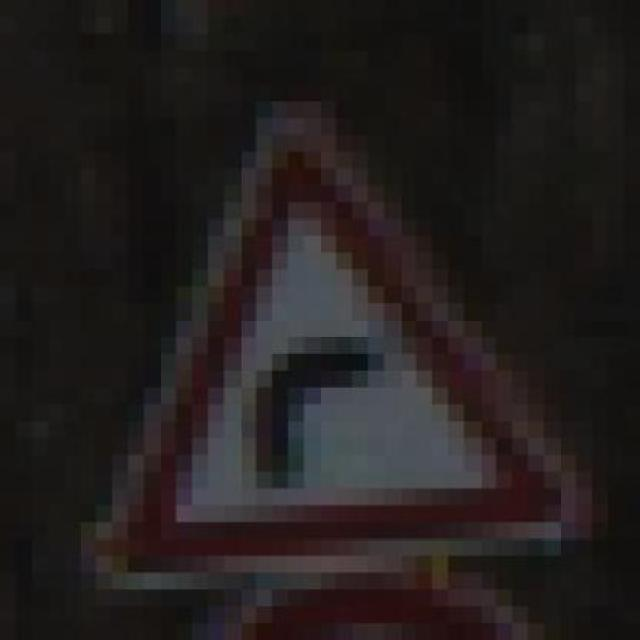Dangerous Rright Curve Ahead: (64, 101, 591, 573)
